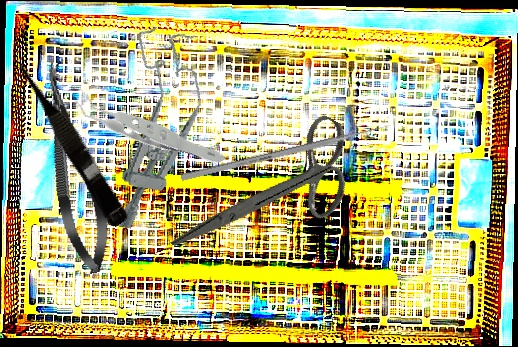Iris Scissors: (168, 78, 375, 307)
Micro Scissor: (8, 49, 134, 229), (30, 58, 118, 278)
Pusher: (180, 121, 392, 183)
Speculum: (101, 23, 214, 238)
Tissue Forceps: (69, 43, 227, 212)
